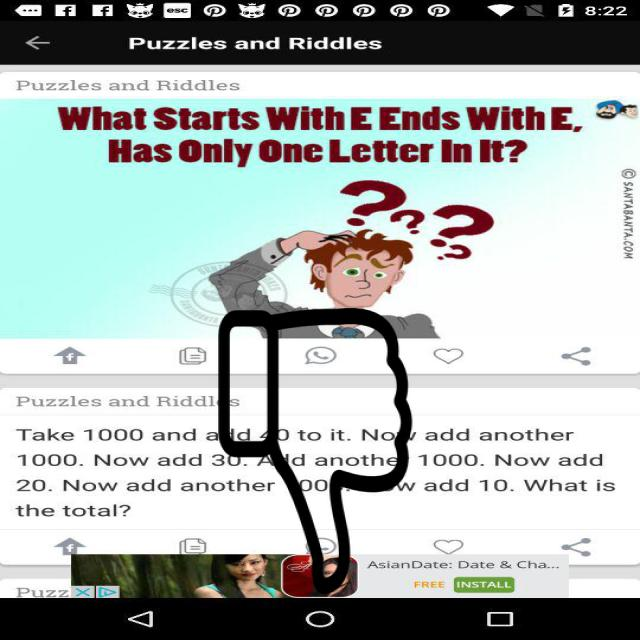obstruction: (216, 308, 415, 594)
